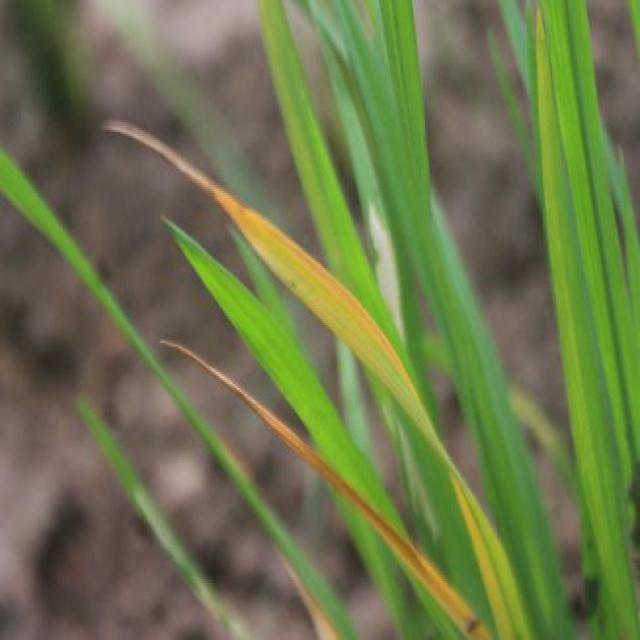Rice Tungro: (152, 163, 284, 239), (249, 403, 346, 496), (362, 498, 429, 592)
